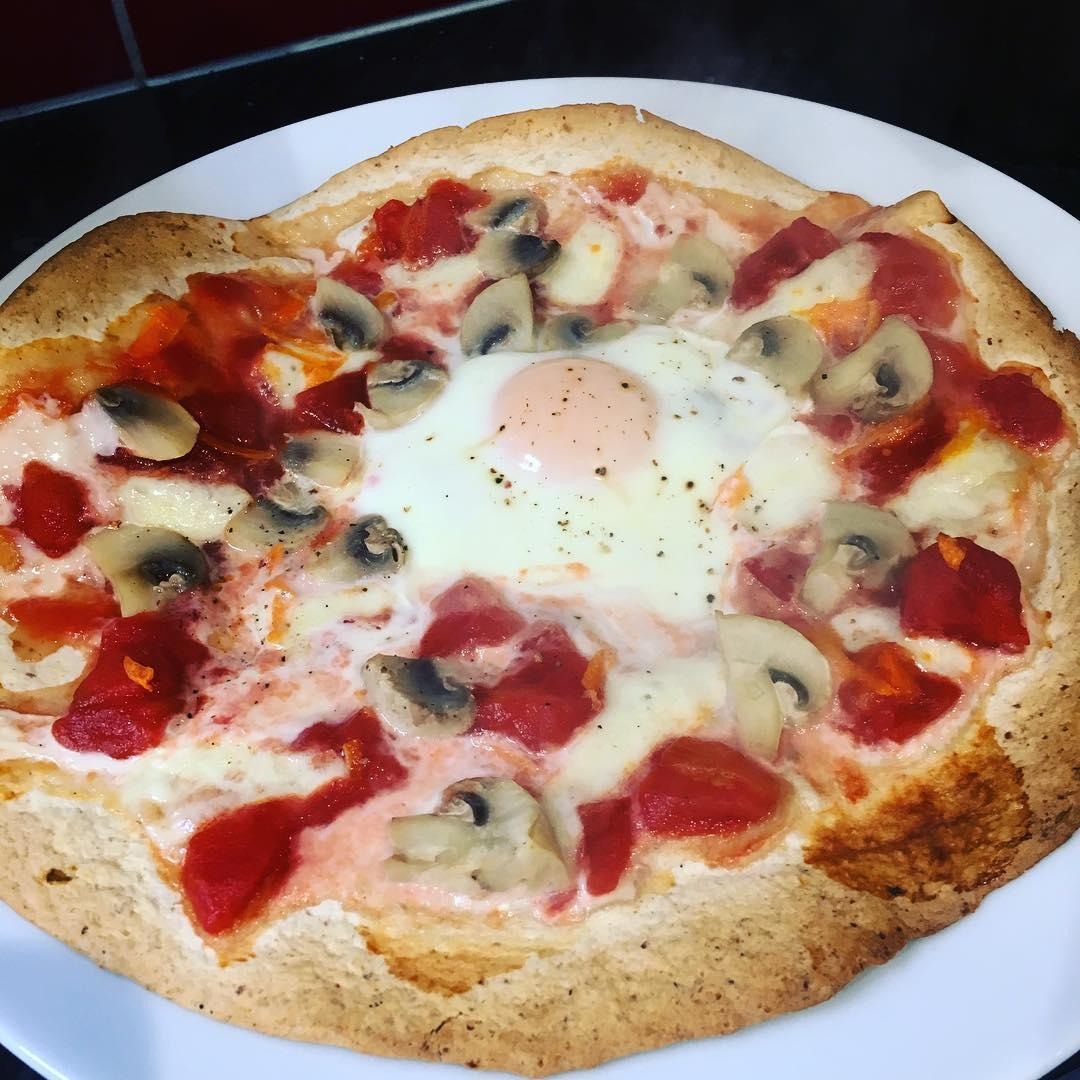Ham: (721, 211, 844, 306), (859, 225, 950, 317)
Mushroom: (229, 429, 398, 578), (461, 195, 604, 342), (381, 777, 558, 889), (739, 317, 929, 418), (697, 603, 829, 741), (349, 639, 485, 750), (311, 279, 444, 392), (805, 489, 922, 596), (93, 369, 193, 458), (651, 221, 720, 333), (85, 523, 200, 589)
Pizza: (1, 107, 1080, 1077)
